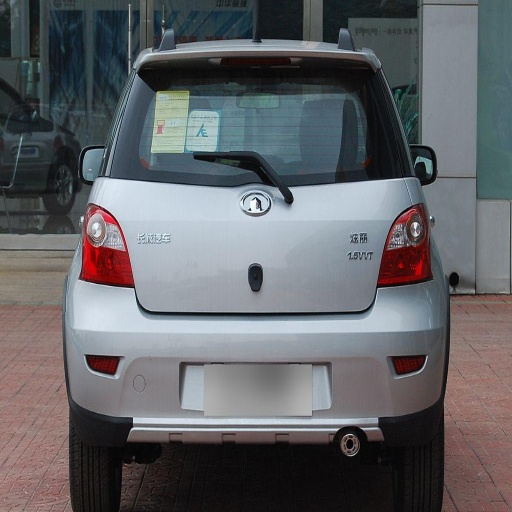back_bumper: (69, 277, 446, 438)
tailgate: (102, 205, 181, 311), (346, 208, 397, 308)
trunk: (102, 178, 413, 317)
